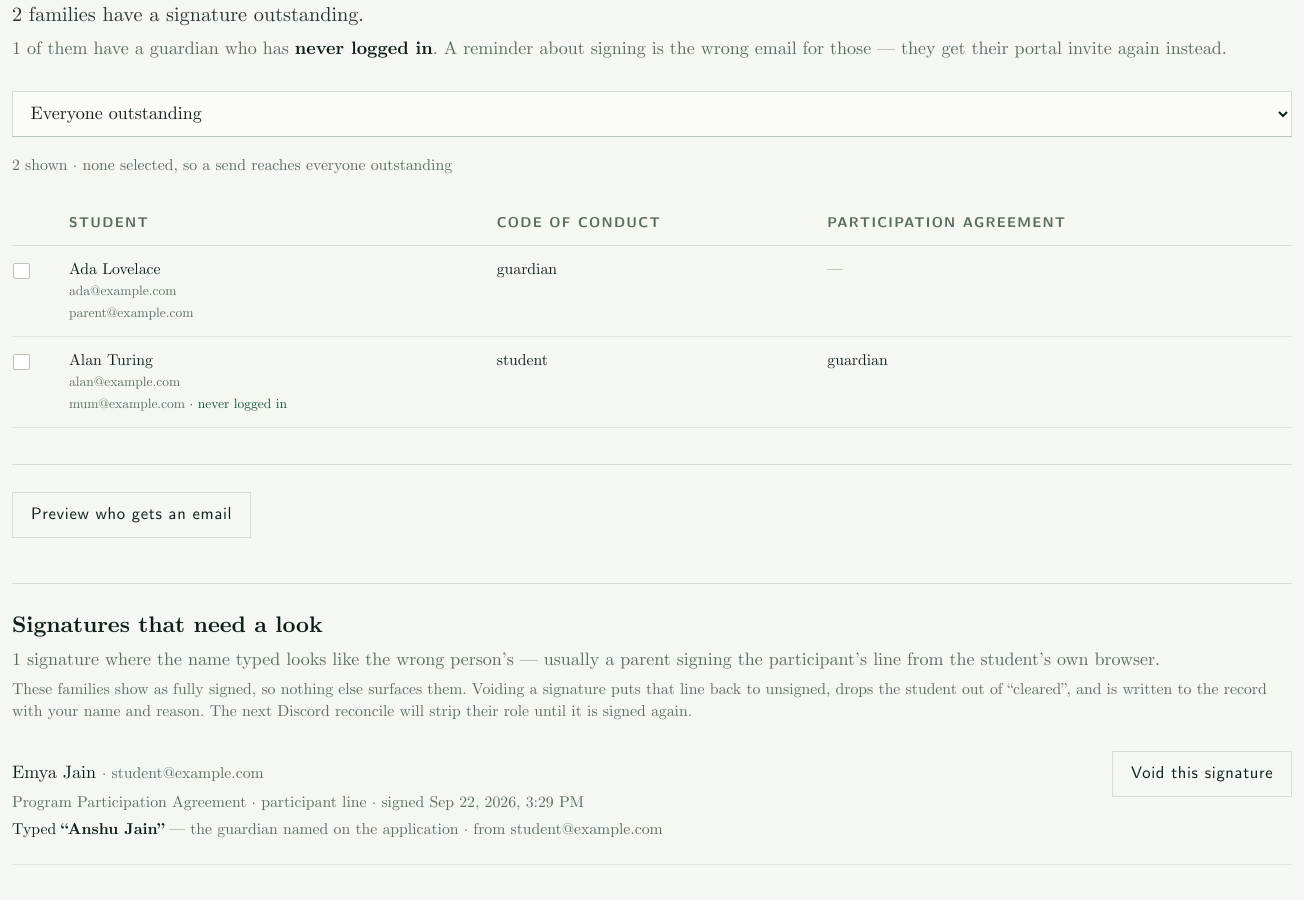
Test: signatures that need a look › says the signature is unchanged when the void fails
Expected: the heading "Signatures that need a look" is shown, [12,611,322,641]
Click the button "Void this signature": click(1202, 774) [1112,751,1292,797]
(page scrolled)
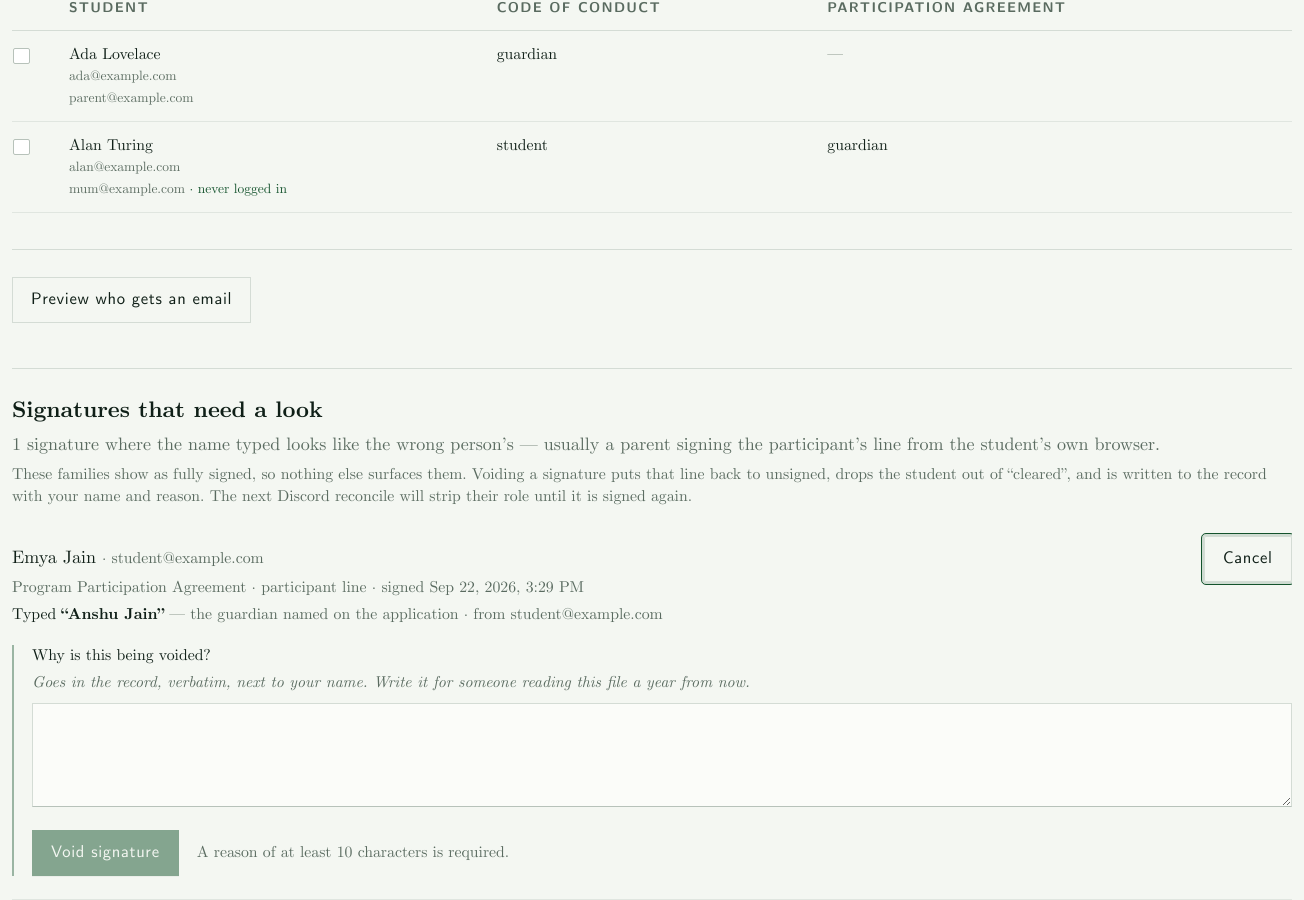
In the text box: (662, 755) [32,703,1292,807], type "A reason long enough to pass."
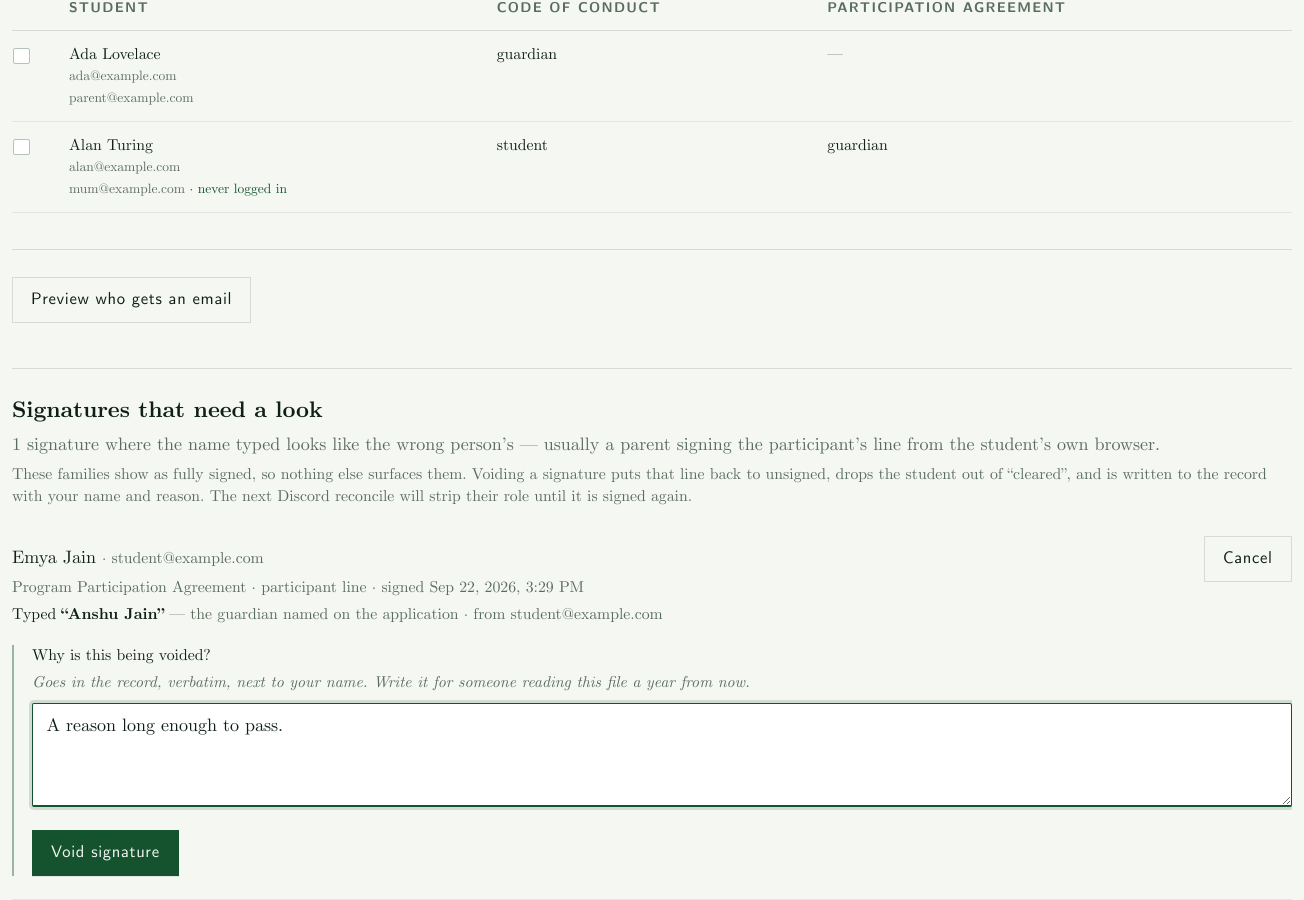
Click the button "Void signature": click(105, 853) [32,830,179,876]
(page scrolled)
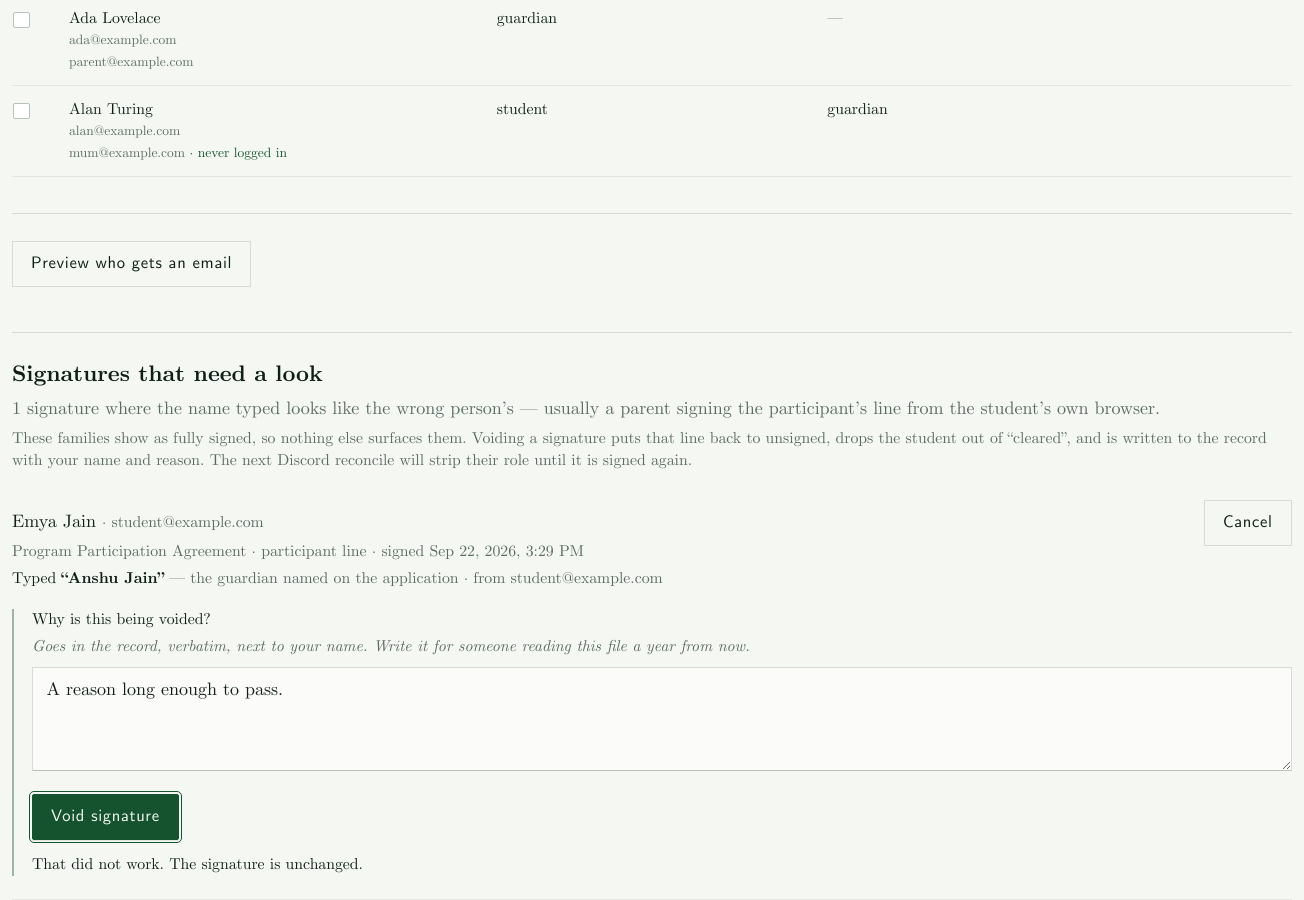
Now the text "That did not work. The signature is unchanged." is shown, box [32,854,363,875]
